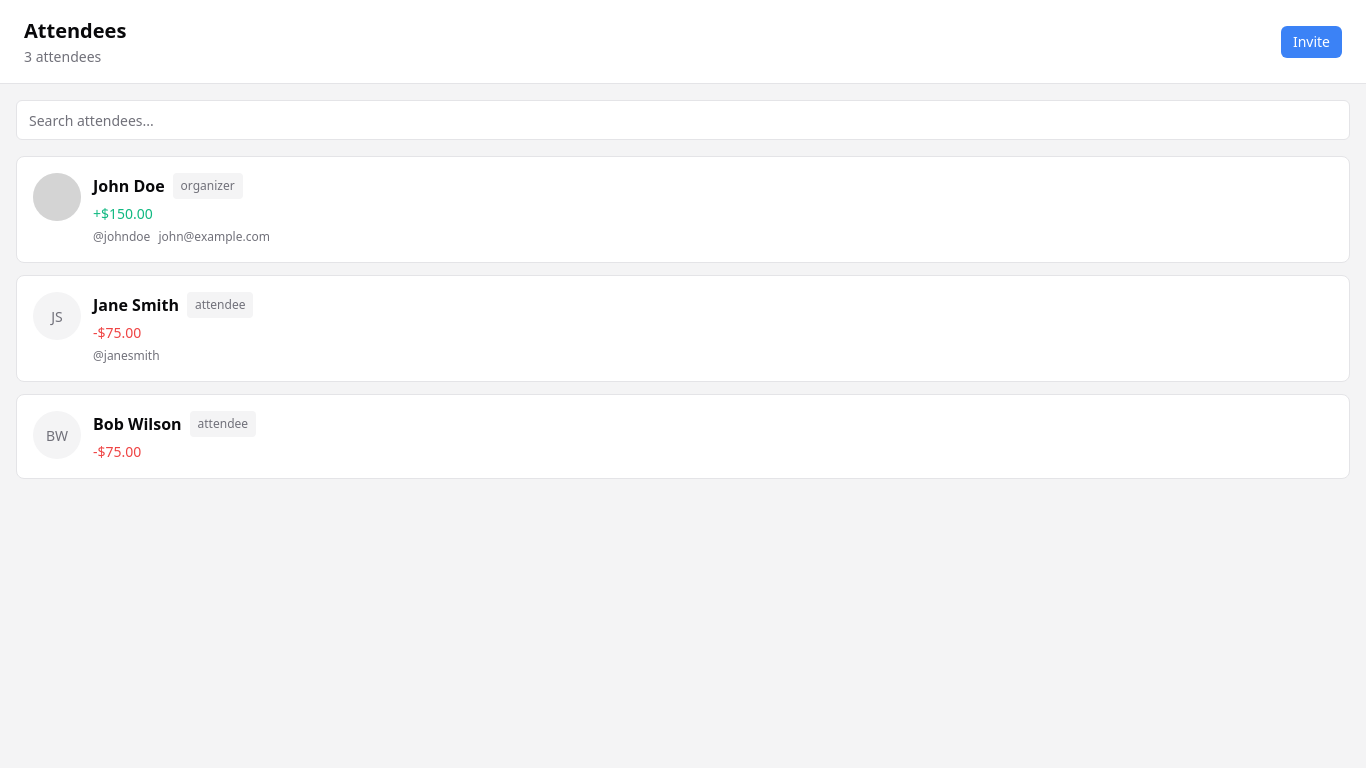
Test: AttendeesPage › invite button › should open invite modal on click
Click the button "Invite" at (1311, 42), box top-left (1281, 26), bottom-right (1342, 58)
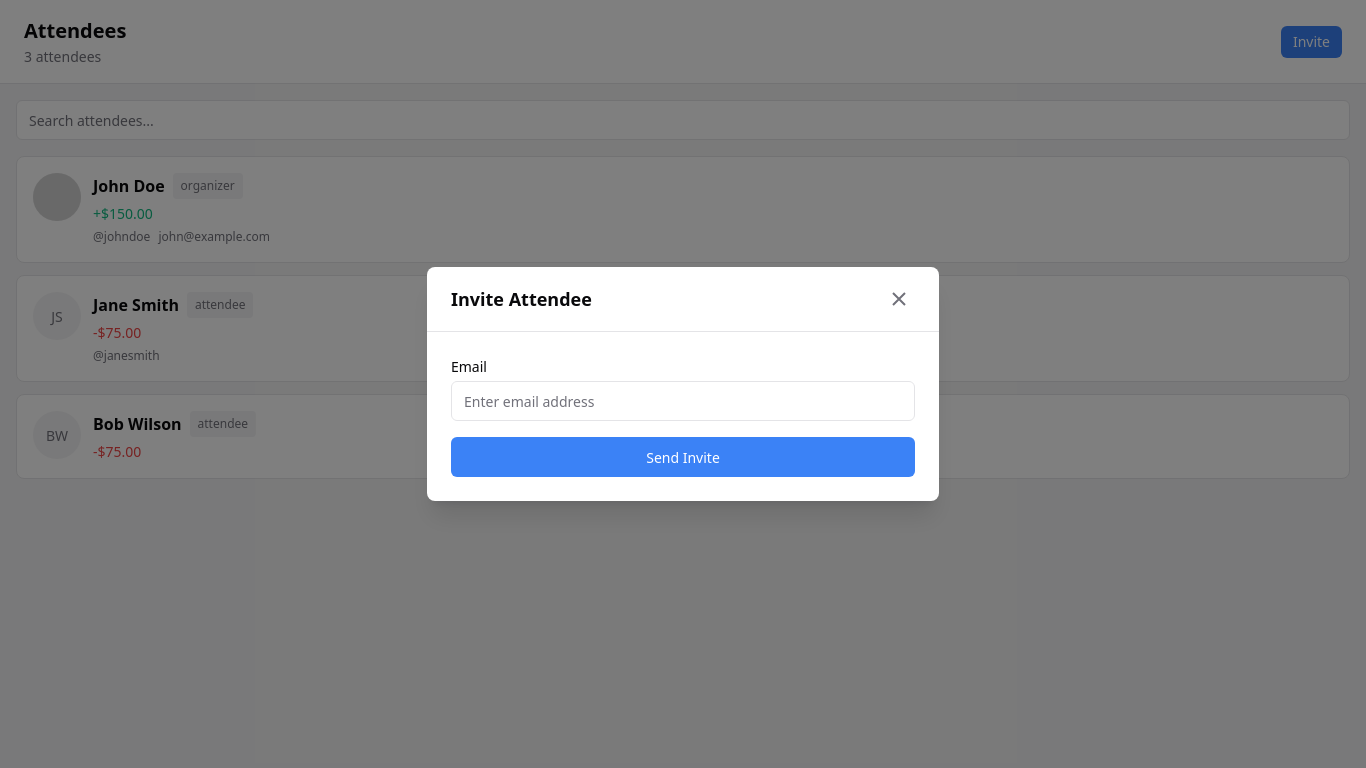
Expected: the element with test id "invite-modal" is shown, top-left (427, 267), bottom-right (939, 501)
